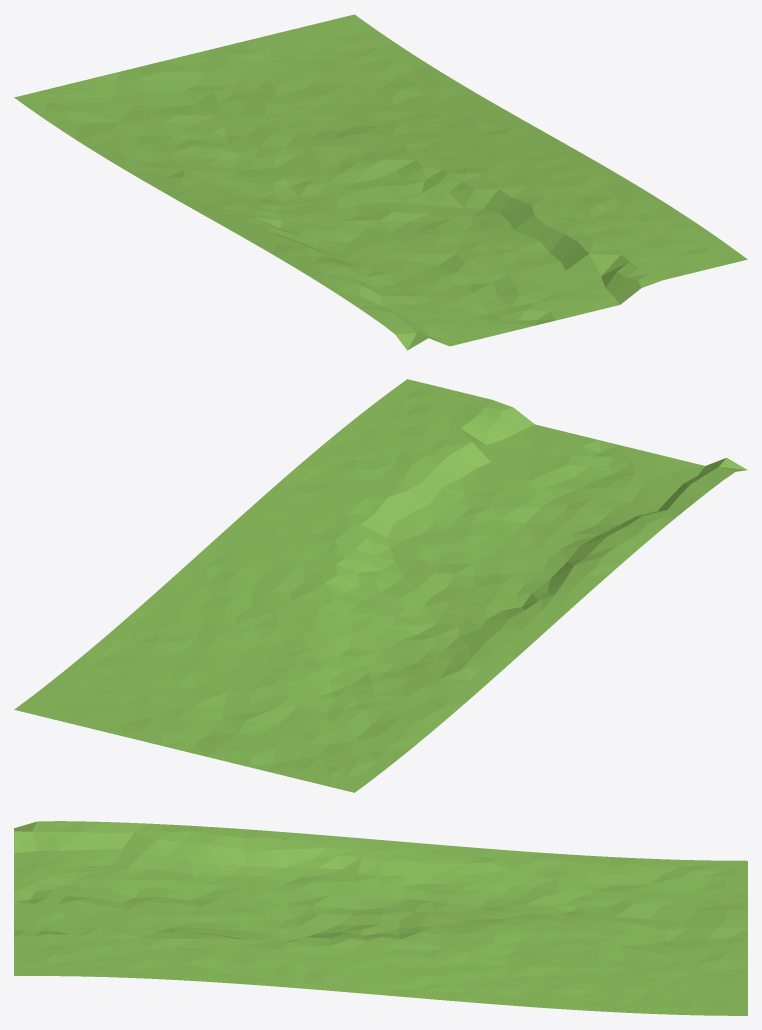
File: MT_River_End_M_b_03_LOD.fbx
The picture shows the model from 3 angles, top to bottom: view 1: azimuth 30°, elevation 25°; view 2: azimuth 150°, elevation 25°; view 3: azimuth 270°, elevation 25°; orthographic projection. The views are drawn at different scales.
Parts seen in each view (by area): view 1: MT_River_End_M_b_03_LOD0; view 2: MT_River_End_M_b_03_LOD0; view 3: MT_River_End_M_b_03_LOD0.
Boxes of the visible parts, <box> form: MT_River_End_M_b_03_LOD0: <box>14,14,747,350</box>; MT_River_End_M_b_03_LOD0: <box>14,379,747,792</box>; MT_River_End_M_b_03_LOD0: <box>14,821,747,1015</box>.
Size of what is drawn, in the model's own units: 50 by 6.28 by 100.
